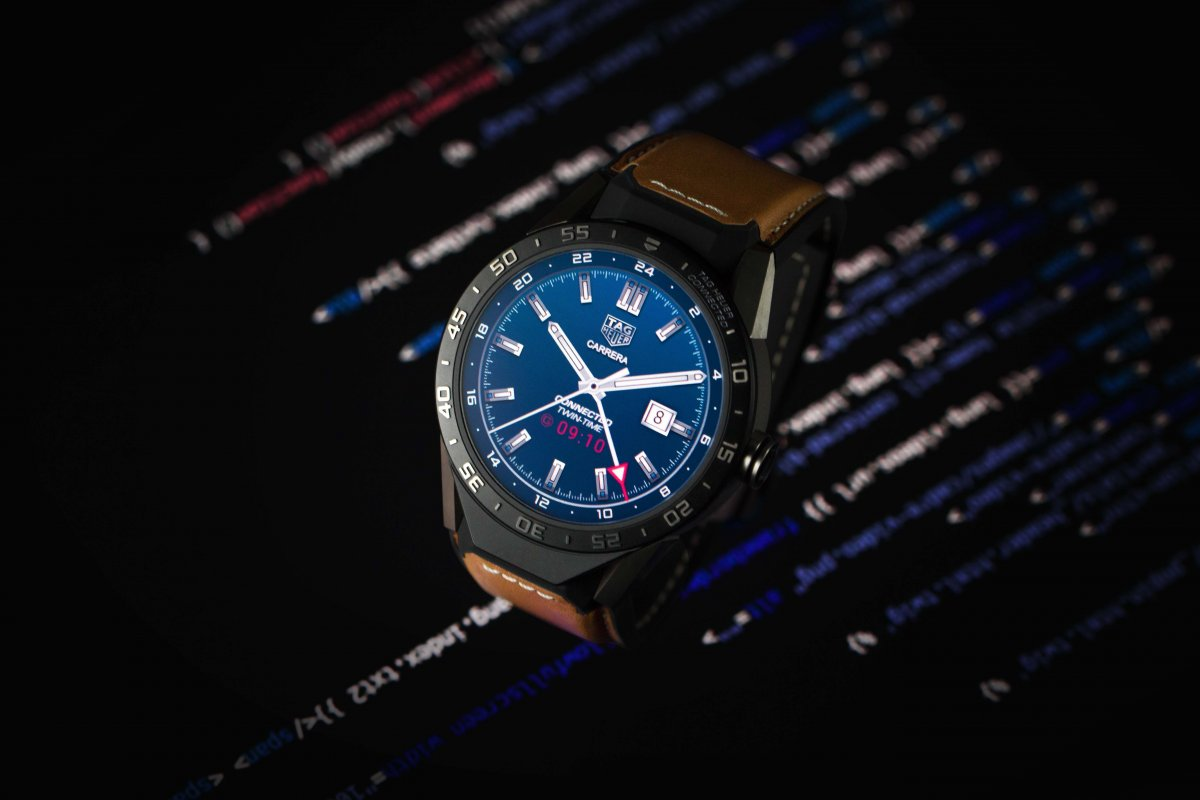clock: (432, 220, 768, 560)
